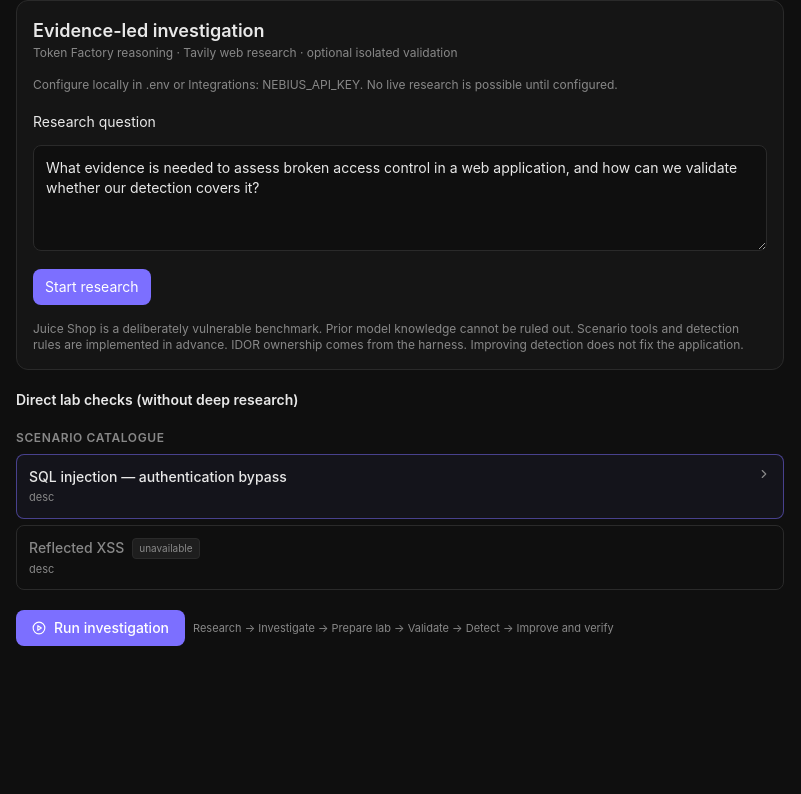
it: InvestigationWorkflow › shows each stage's real status, including a skipped integration stage
Expected: the text "SQL injection — authentication bypass" is shown, top-left (29, 467), bottom-right (287, 487)
Click the button "Run investigation" at (100, 628), box top-left (16, 610), bottom-right (185, 646)
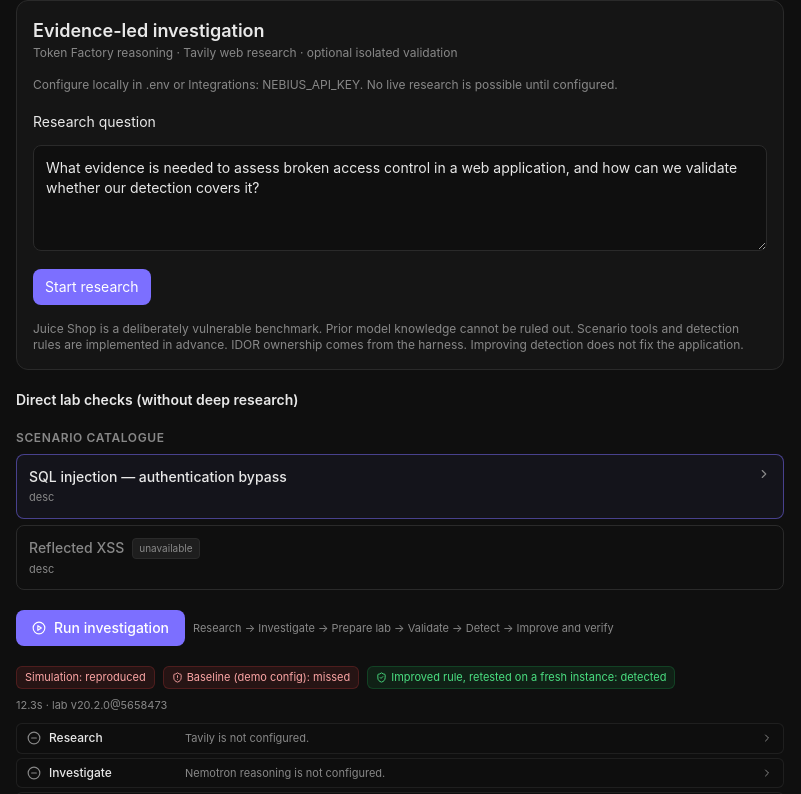
Expected: the text "Simulation: reproduced" is shown, top-left (16, 666), bottom-right (155, 688)
Expected: the text "Baseline (demo config): missed" is shown, top-left (163, 666), bottom-right (359, 688)
Expected: the text "Improved rule, retested on a fresh instance: detected" is shown, top-left (367, 666), bottom-right (675, 688)
